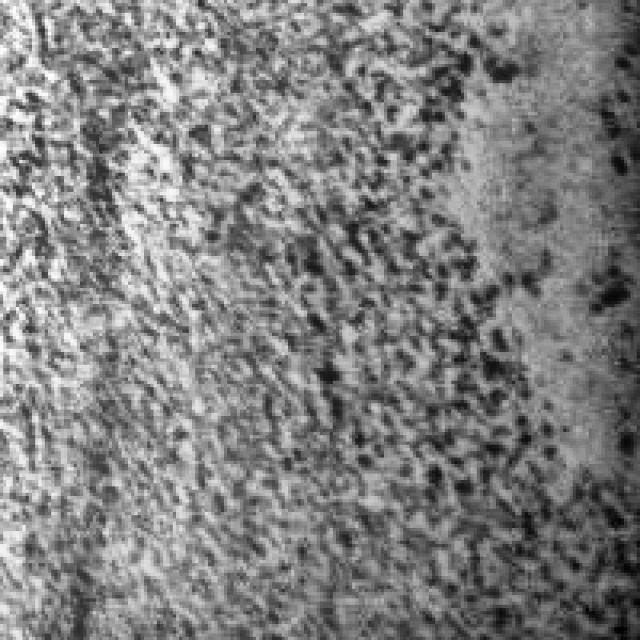Rolled_in_Scale: (230, 3, 589, 576)
